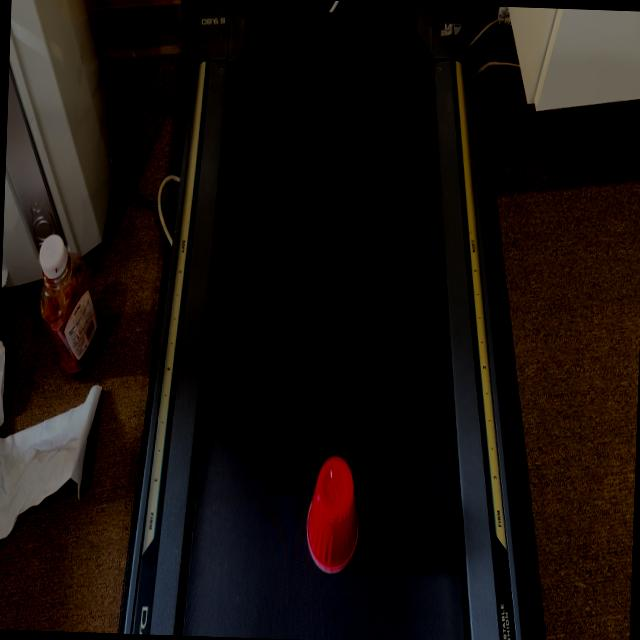Recycle: (302, 446, 392, 590)
